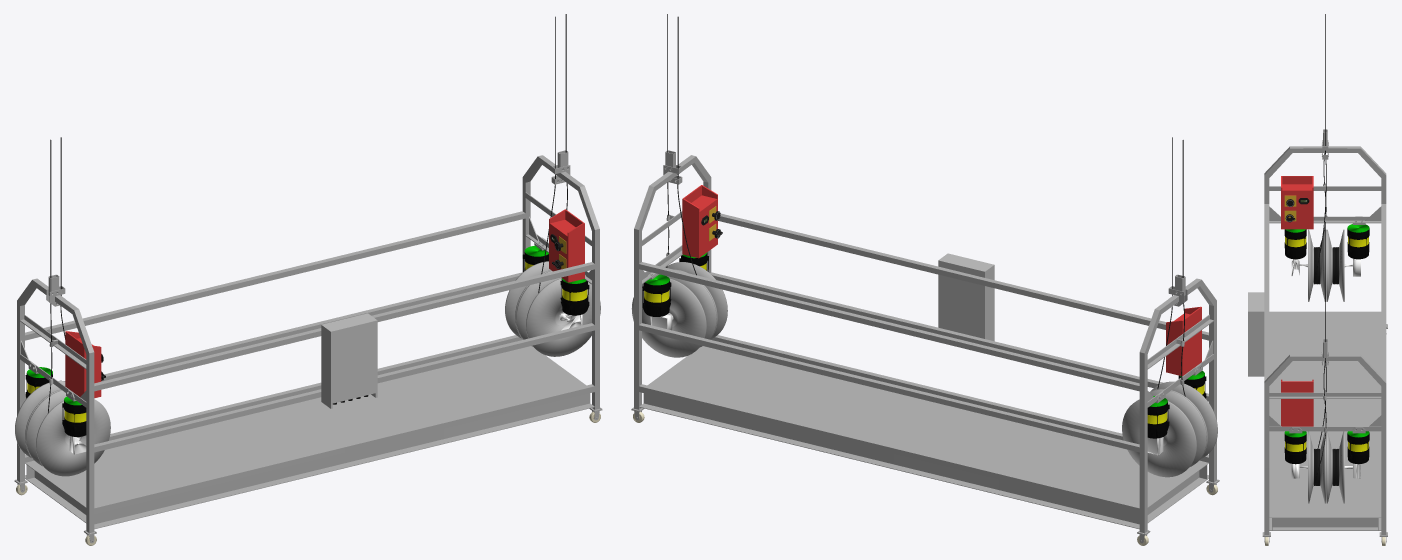
Rendered from skyScraperPlatform.fbx.
The picture shows the model from 3 angles, left to right: view 1: azimuth 30°, elevation 25°; view 2: azimuth 150°, elevation 25°; view 3: azimuth 270°, elevation 25°; orthographic projection. The views are drawn at different scales.
Visible parts, largest first — view 1: U_Channel_50x50mm.006, Cylinder.013, Cube.036, Cylinder.017, Cube.037, Cube.027, Generator_frame.004, Generator_frame.002; view 2: U_Channel_50x50mm.006, Cylinder.013, Cylinder.017, Cube.036, Cube.037, Cube.027, Generator_frame.001, Generator_frame.003; view 3: U_Channel_50x50mm.006, Cube.027, Cylinder.013, Cylinder.017, Cube.036, Cube.037, Generator_frame.003, Generator_frame.004, Generator_frame.001, Generator_frame.002, object 4, object 1.
Part boxes in pixels (box(x1,y1,x2,y2)): U_Channel_50x50mm.006: box(14, 150, 602, 534); Cylinder.013: box(15, 380, 110, 476); Cube.036: box(321, 313, 377, 408); Cylinder.017: box(505, 261, 600, 356); Cube.037: box(549, 209, 584, 282); Cube.027: box(65, 331, 105, 398); Generator_frame.004: box(559, 278, 589, 330); Generator_frame.002: box(62, 396, 86, 454); U_Channel_50x50mm.006: box(631, 150, 1219, 534); Cylinder.013: box(1122, 381, 1217, 477); Cylinder.017: box(631, 262, 727, 357); Cube.036: box(938, 253, 994, 341); Cube.037: box(682, 185, 722, 258); Cube.027: box(1166, 306, 1201, 376); Generator_frame.001: box(642, 274, 673, 330); Generator_frame.003: box(1147, 396, 1169, 455); U_Channel_50x50mm.006: box(1262, 129, 1387, 536); Cube.027: box(1281, 176, 1313, 229); Cylinder.013: box(1308, 229, 1344, 301); Cylinder.017: box(1308, 431, 1344, 503); Cube.036: box(1248, 292, 1264, 376); Cube.037: box(1281, 379, 1313, 426); Generator_frame.003: box(1344, 224, 1369, 276); Generator_frame.004: box(1284, 431, 1307, 478); Generator_frame.001: box(1344, 431, 1369, 478); Generator_frame.002: box(1284, 229, 1307, 275); object 4: box(1314, 18, 1326, 279); object 1: box(1315, 226, 1326, 480).
Size of the model in its own units: 338 by 218 by 85.99.
